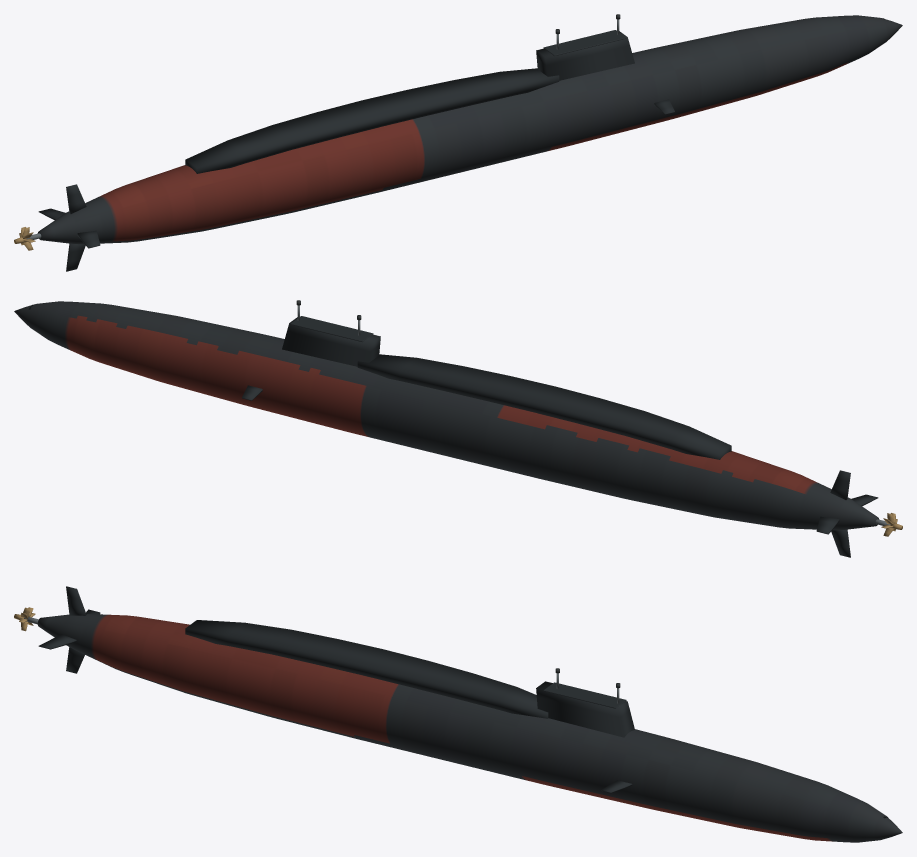
The model's file is US_SSBN_BenjaminFranklin.glb.
3 renders of one model, top to bottom at view 1: azimuth 30°, elevation 25°; view 2: azimuth 150°, elevation 25°; view 3: azimuth 330°, elevation 25°, orthographic.
Visible parts, largest first — view 1: US_SSBN_BenjaminFranklin_LOD0; view 2: US_SSBN_BenjaminFranklin_LOD0; view 3: US_SSBN_BenjaminFranklin_LOD0.
Boxes of the visible parts, left/top/right/bottom form: US_SSBN_BenjaminFranklin_LOD0: left=14, top=14, right=902, bottom=271; US_SSBN_BenjaminFranklin_LOD0: left=14, top=300, right=902, bottom=557; US_SSBN_BenjaminFranklin_LOD0: left=14, top=586, right=902, bottom=842.
Size of the model in its own units: 134 by 17.53 by 16.71.
Materials: 6 (1 with a texture image).
